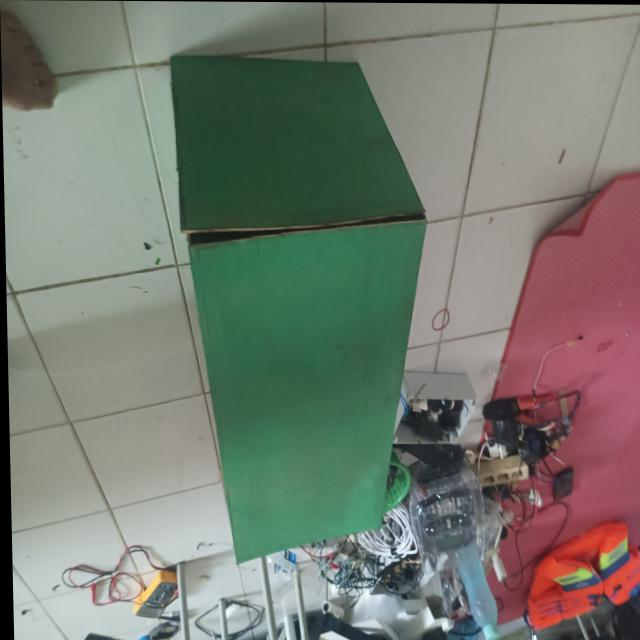green_box: (155, 56, 427, 572)
